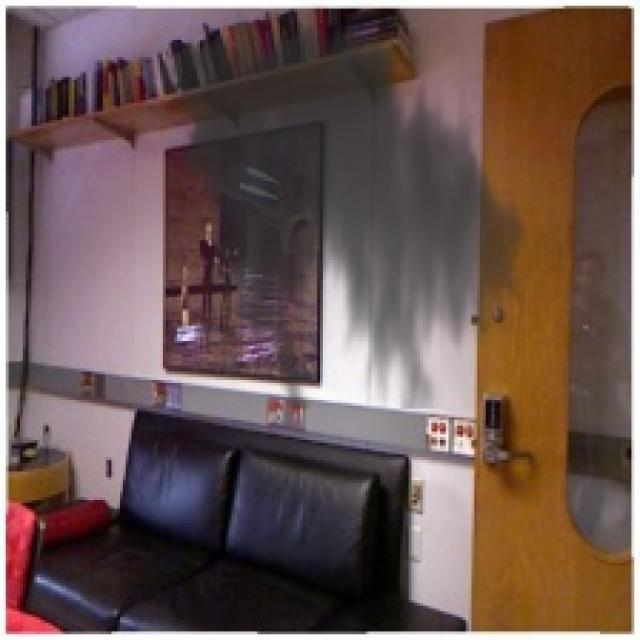smoke: (152, 0, 537, 409)
